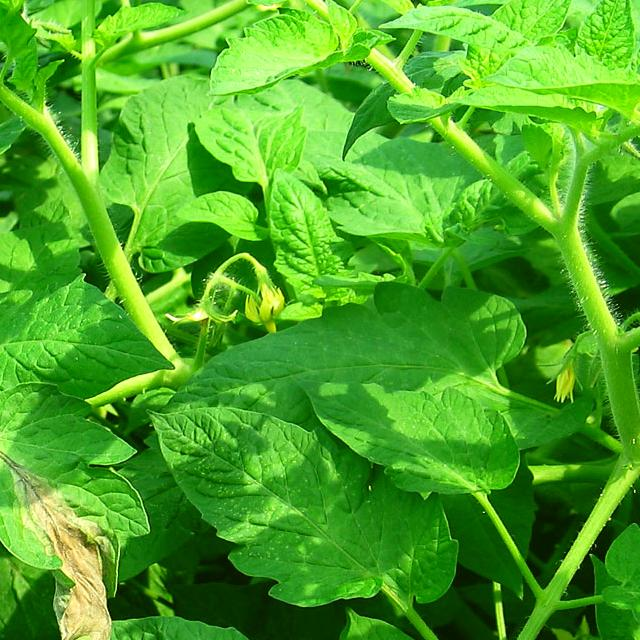Tomato leaf late blight: (150, 394, 455, 640), (0, 413, 146, 628), (321, 355, 511, 518), (195, 20, 363, 93), (0, 119, 18, 421), (329, 606, 459, 640), (94, 628, 383, 640)
